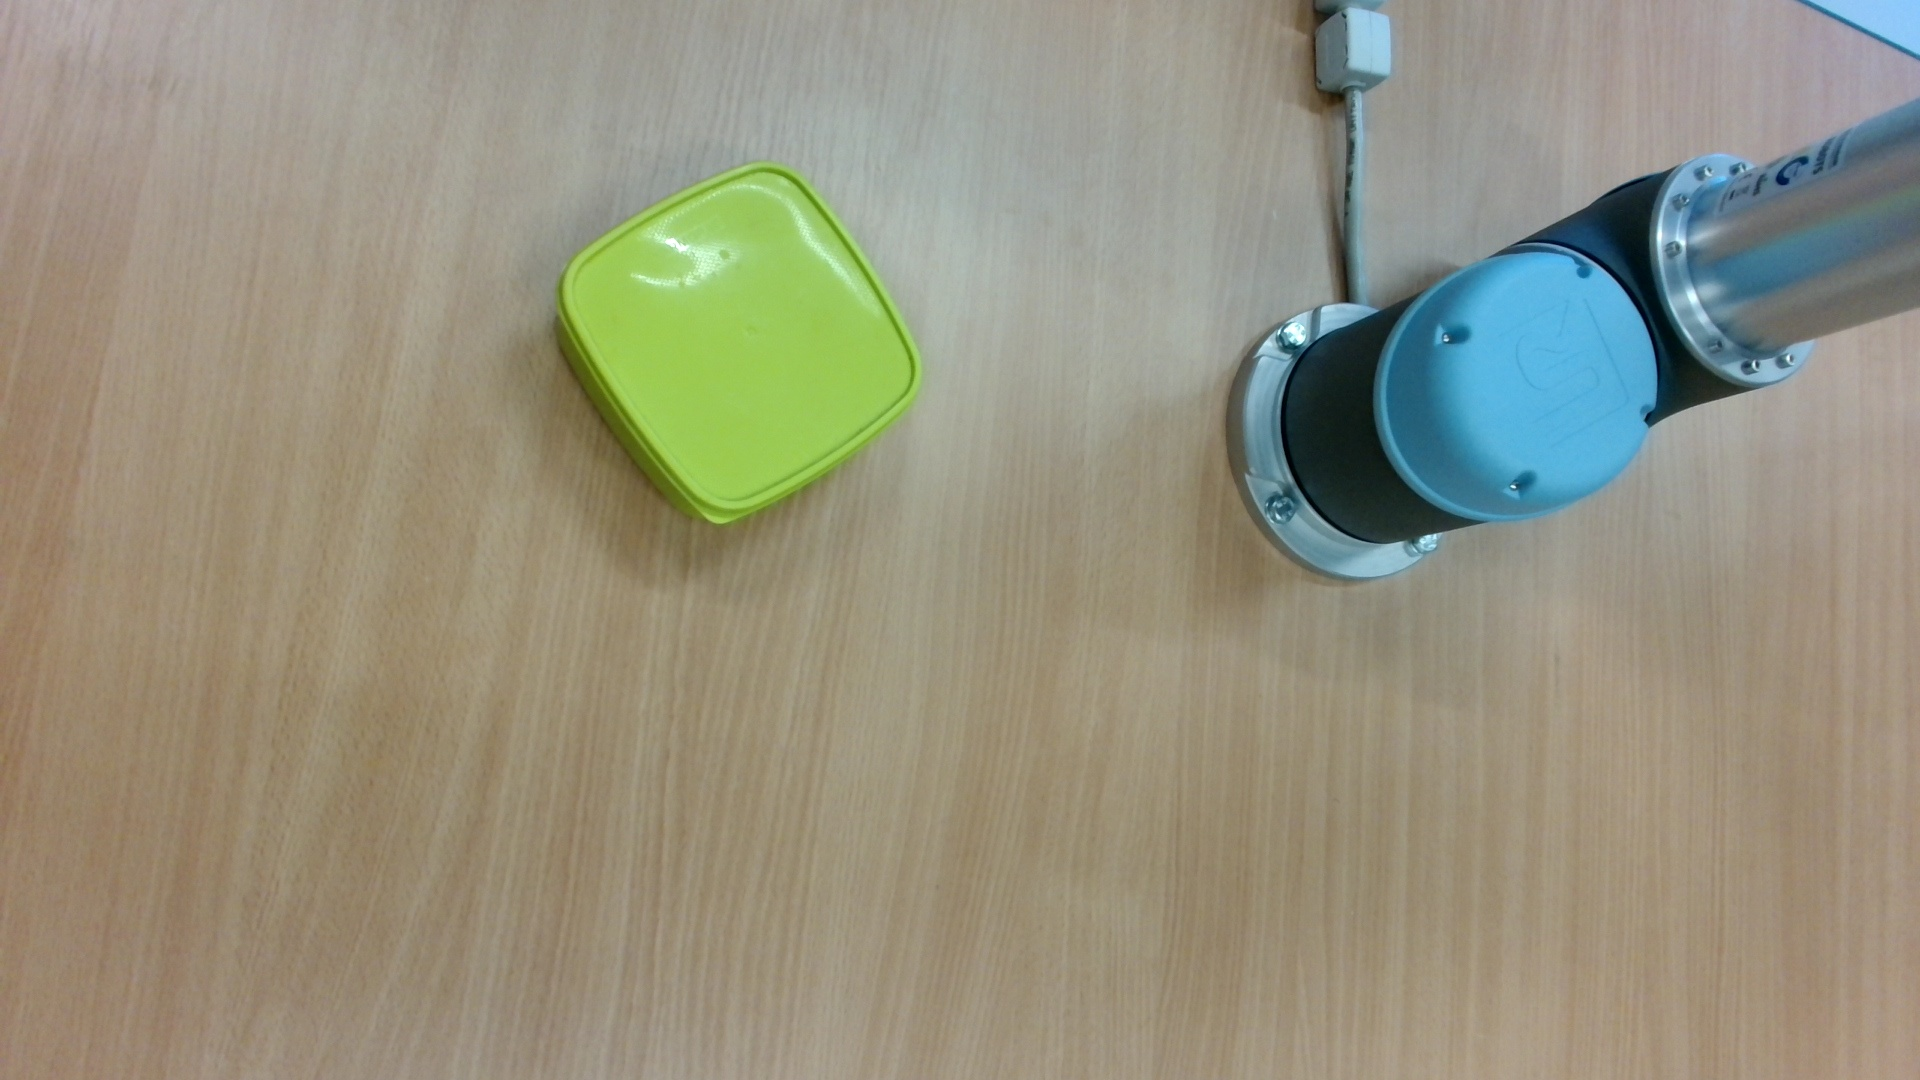Box: (551, 156, 931, 534)
